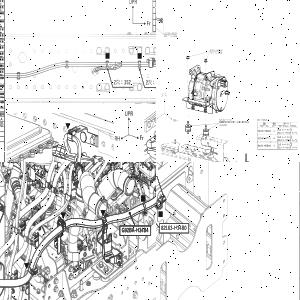PartNumber: (161, 225, 187, 232), (121, 227, 149, 233), (209, 48, 222, 52), (258, 136, 270, 140), (219, 118, 232, 121), (258, 144, 270, 147), (257, 130, 271, 132), (164, 32, 177, 34)
